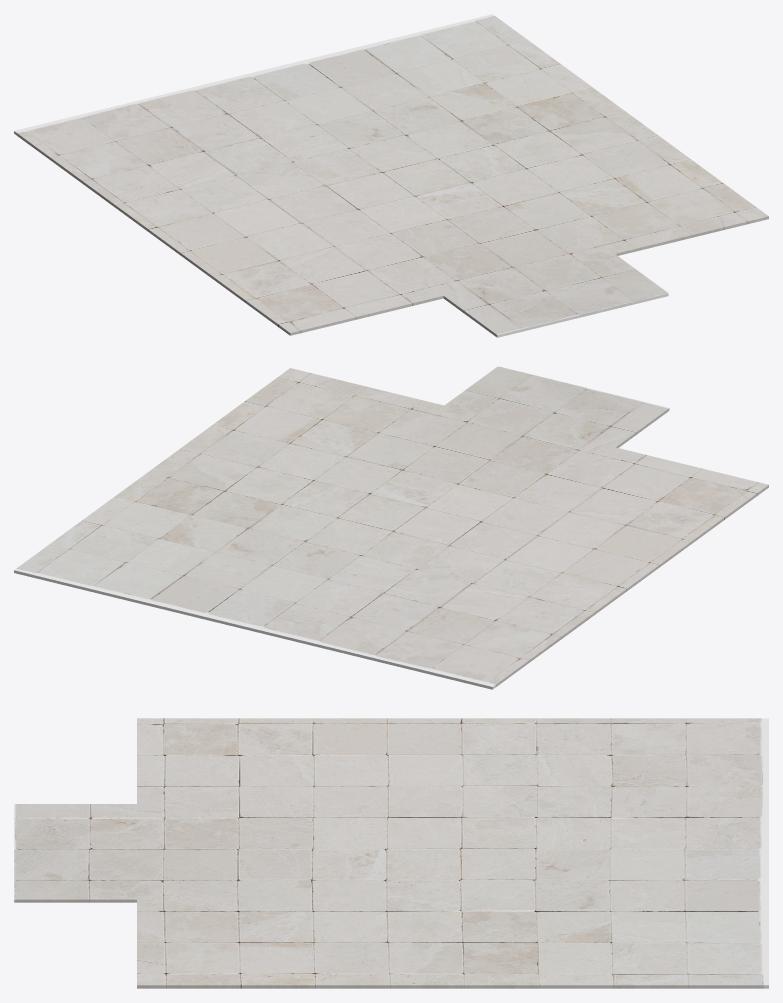
The model's file is floor.fbx.
The picture shows the model from 3 angles, top to bottom: view 1: azimuth 30°, elevation 25°; view 2: azimuth 150°, elevation 25°; view 3: azimuth 270°, elevation 25°; orthographic projection. The views are drawn at different scales.
Visible parts, largest first — view 1: Cube.003; view 2: Cube.003; view 3: Cube.003.
Part boxes in pixels (x1,y1,x2,y2): Cube.003: (14,14,768,337); Cube.003: (14,366,768,689); Cube.003: (14,718,768,988).
Bounding box in the file's own units: 1282 × 7.01 × 1531.
